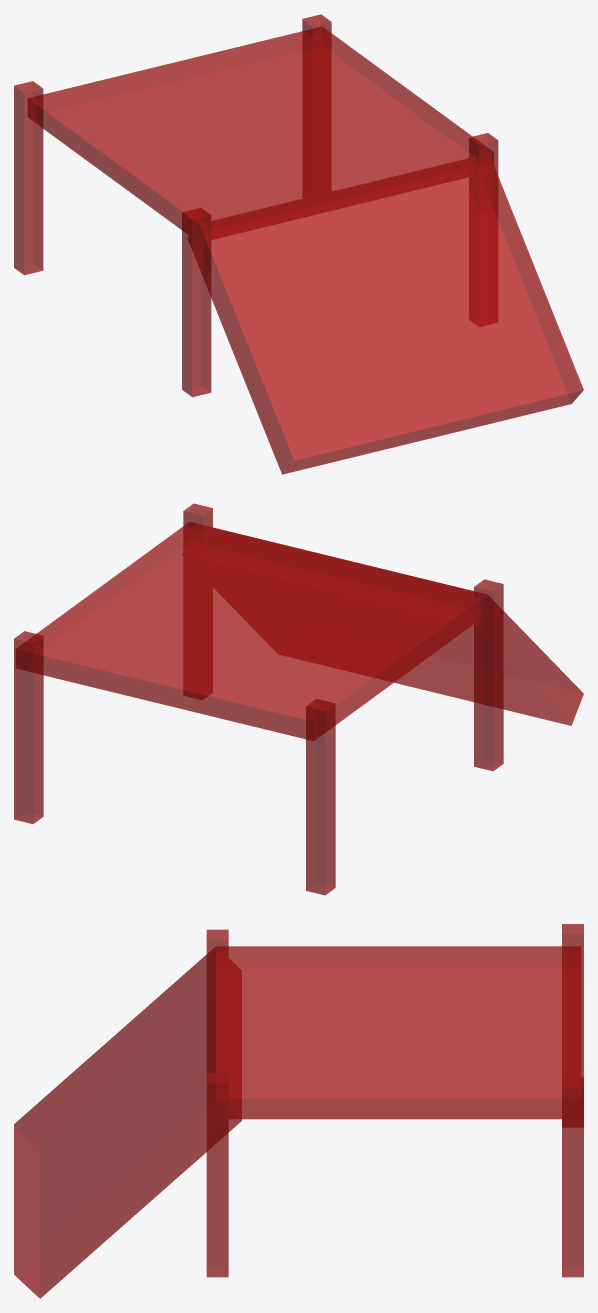
File: SM_Bld_House_Stairs_03_Collision.fbx
The picture shows the model from 3 angles, top to bottom: view 1: azimuth 30°, elevation 25°; view 2: azimuth 150°, elevation 25°; view 3: azimuth 270°, elevation 25°; orthographic projection. The views are drawn at different scales.
Parts seen in each view (by area): view 1: SM_Bld_House_Stairs_03_Collision; view 2: SM_Bld_House_Stairs_03_Collision; view 3: SM_Bld_House_Stairs_03_Collision.
Part boxes in pixels (x1=…): SM_Bld_House_Stairs_03_Collision: x1=14, y1=14, x2=583, y2=474; SM_Bld_House_Stairs_03_Collision: x1=14, y1=503, x2=583, y2=895; SM_Bld_House_Stairs_03_Collision: x1=14, y1=924, x2=583, y2=1298.
Bounding box in the file's own units: 260 × 166 × 393.
